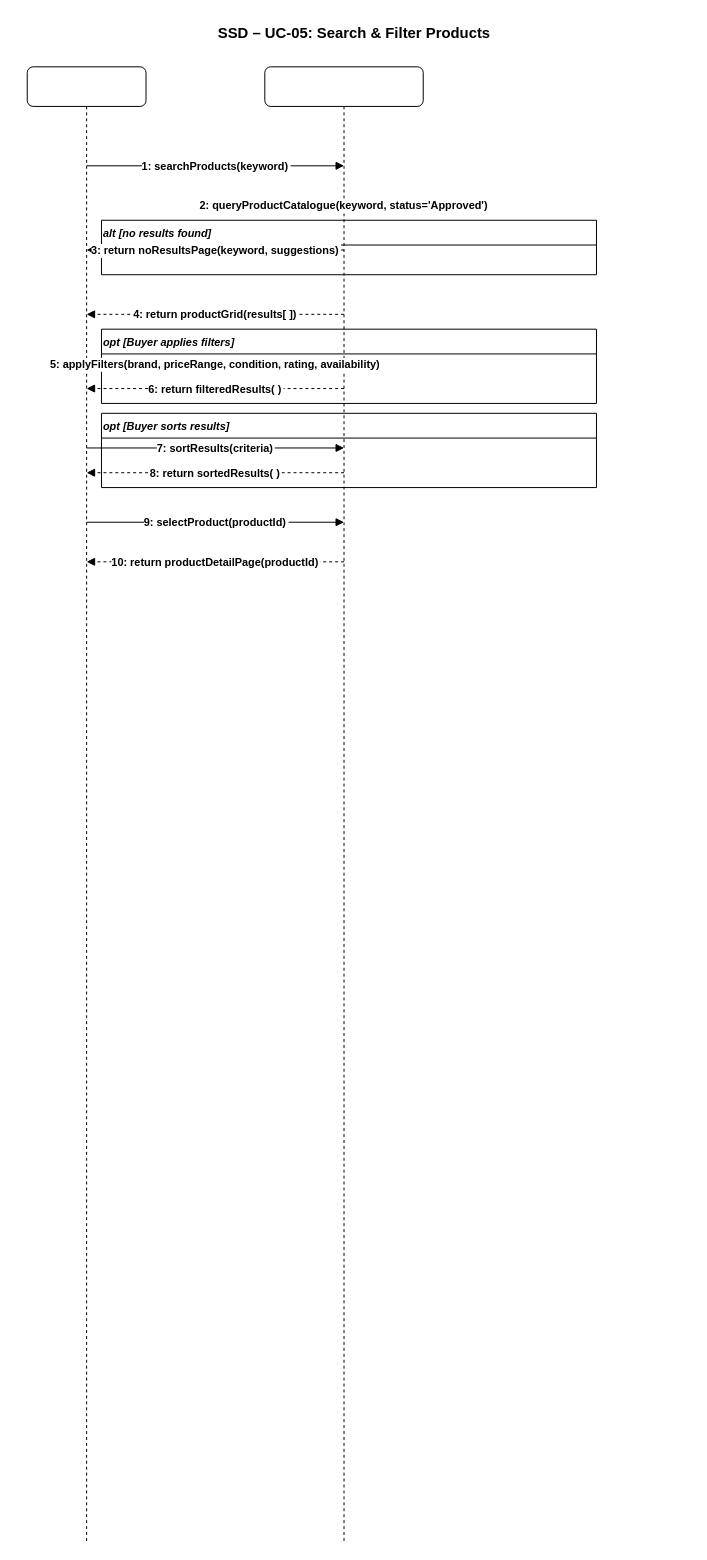
Some shapes in this 707 by 1560 pixel diagram are drawn without their labels. The shapes that lost their labels are listed below. From the top down, each one's box as (x1, y1, x2, y2) in pixels, then its label:
(26, 66, 146, 106): Buyer
(264, 66, 423, 106): SmartTech System
